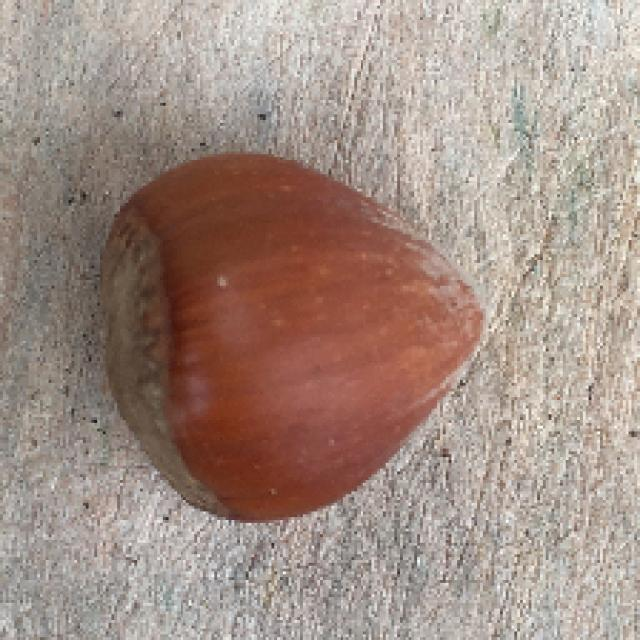qualityHazelnut: (84, 144, 498, 536)
